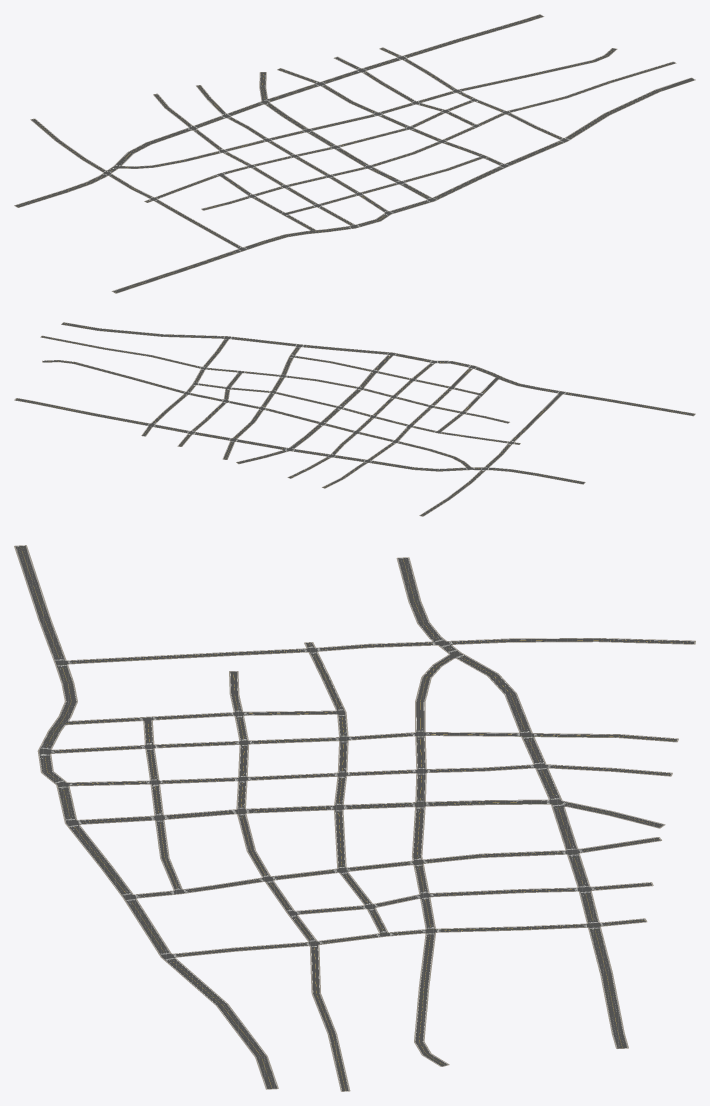
The model's file is campus-roads-detail.glb.
3 views of the same model, one above another, from view 1: azimuth 30°, elevation 25°; view 2: azimuth 150°, elevation 25°; view 3: azimuth 270°, elevation 25° (orthographic). The views are drawn at different scales.
Bounding box in the file's own units: 2014 × 0.155 × 1062.
Materials: 6 (2 with a texture image).
